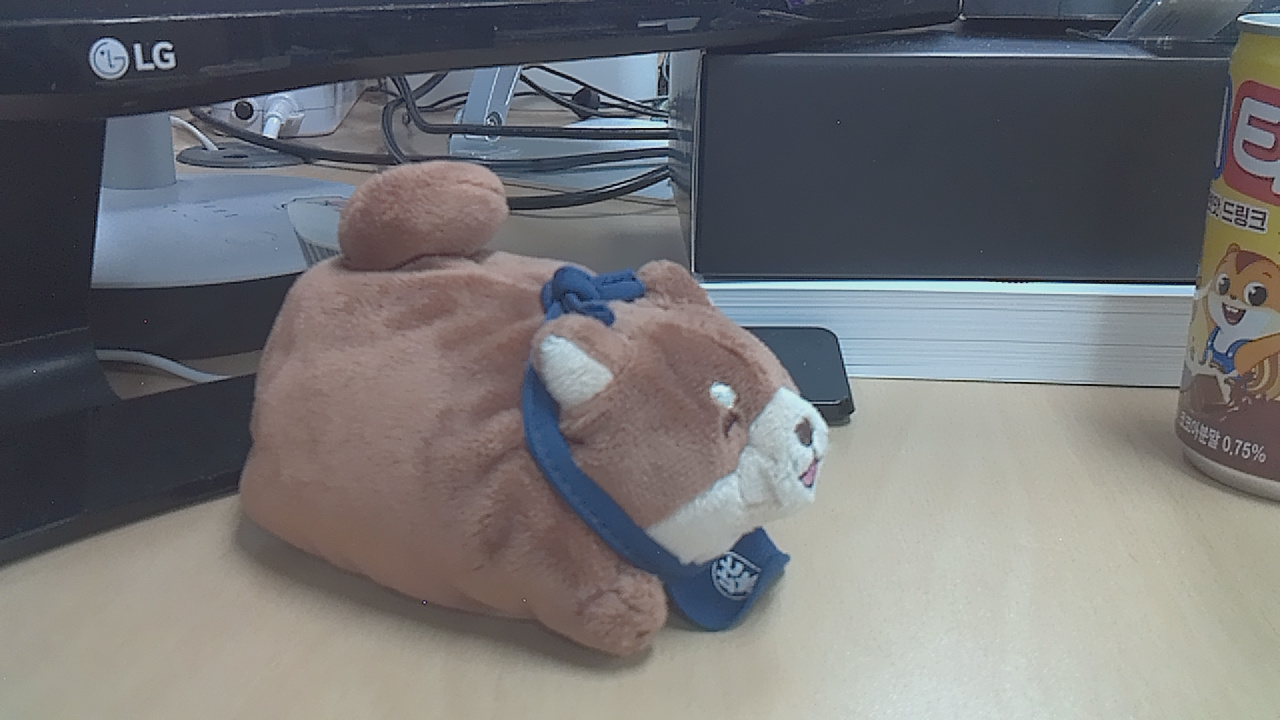cuteDog: (225, 153, 833, 703)
